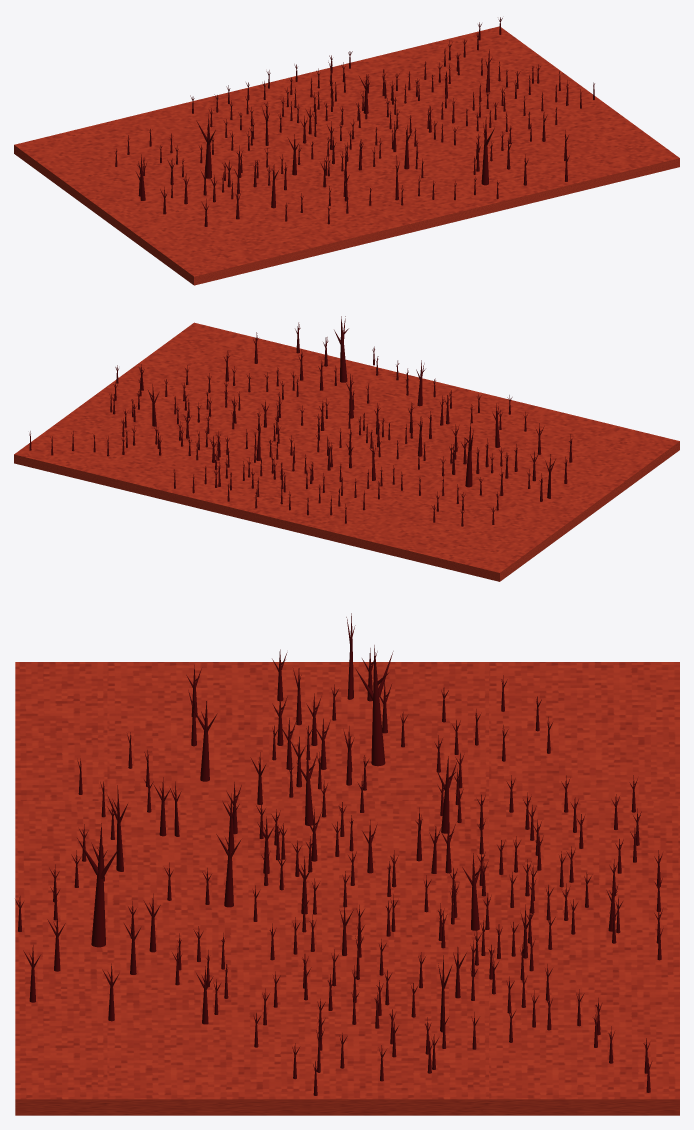
File: meat floor fixed (made by me).glb
3 renders of one model, top to bottom at view 1: azimuth 30°, elevation 25°; view 2: azimuth 150°, elevation 25°; view 3: azimuth 270°, elevation 25°, orthographic. The views are drawn at different scales.
Parts seen in each view (by area): view 1: -col; view 2: -col; view 3: -col, -tree-col.174, -tree-col.062.
Part boxes in pixels (x1,y1,x2,y2): -col: (14,26,679,285); -col: (14,322,679,581); -col: (15,662,679,1115); -tree-col.174: (77,823,119,947); -tree-col.062: (355,645,393,766).
Bounding box in the file's own units: 114 × 18.25 × 73.37.
845 materials, 1 textured.
